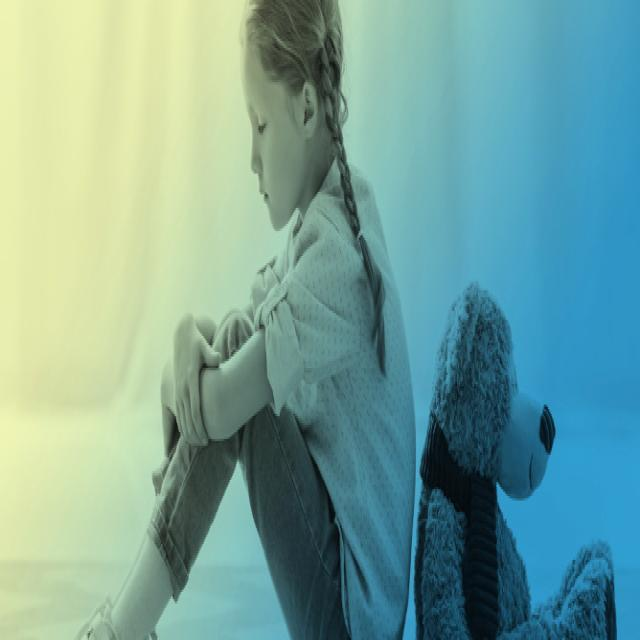child: (74, 0, 416, 640)
